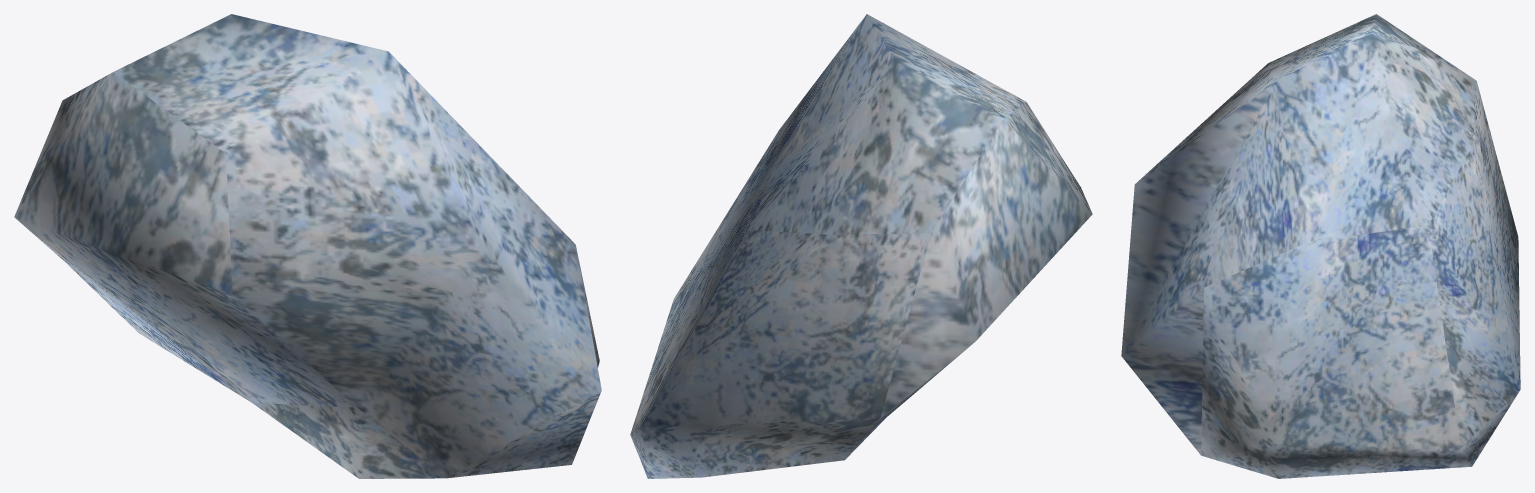
File: asteroid_ice_radial_s01_l2.fbx
3 views of the same model, side by side, from view 1: azimuth 30°, elevation 25°; view 2: azimuth 150°, elevation 25°; view 3: azimuth 270°, elevation 25° (orthographic). The views are drawn at different scales.
Visible parts, largest first — view 1: mesh_node; view 2: mesh_node; view 3: mesh_node.
Boxes of the visible parts, x1=… form: mesh_node: x1=14, y1=14, x2=601, y2=478; mesh_node: x1=630, y1=14, x2=1092, y2=478; mesh_node: x1=1121, y1=14, x2=1520, y2=478.
Bounding box in the file's own units: 4.15 × 3.92 × 4.
